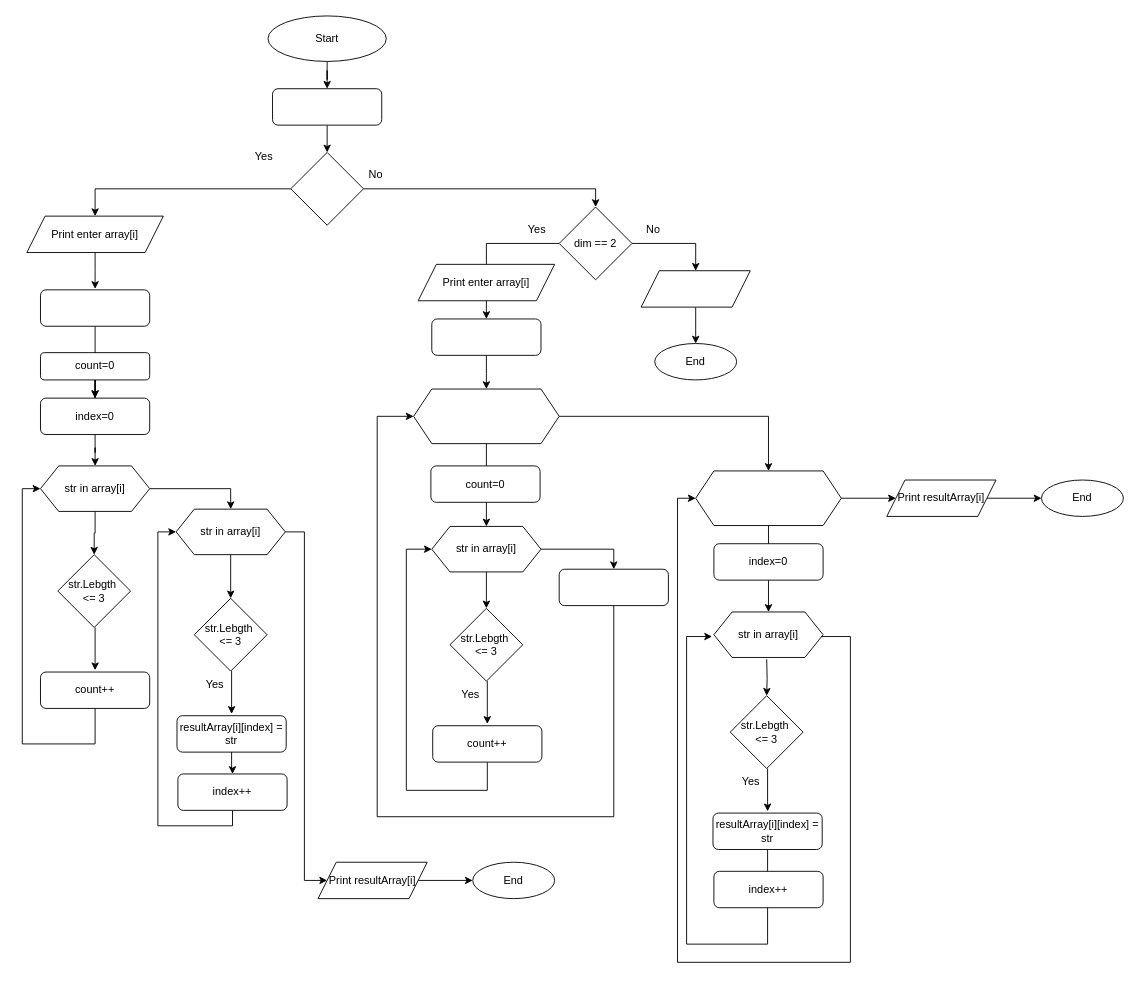
Image size: 1139x986. Some labels were removed from this diagram. Each missing label, with the centre of its shape:
"columnCounts[i] = count" goes at point 613,587.
"dim == 1" goes at point 327,188.
"i = 0; i < rowCount; i++" goes at point 768,498.
"i = 0; i < rowCount; i++)" goes at point 486,416.
"Print error" goes at point 695,288.
"Ввод Array[i,j]" goes at point 486,336.
"Ввод Array[i]" goes at point 95,307.
"Ввод dim" goes at point 327,106.
